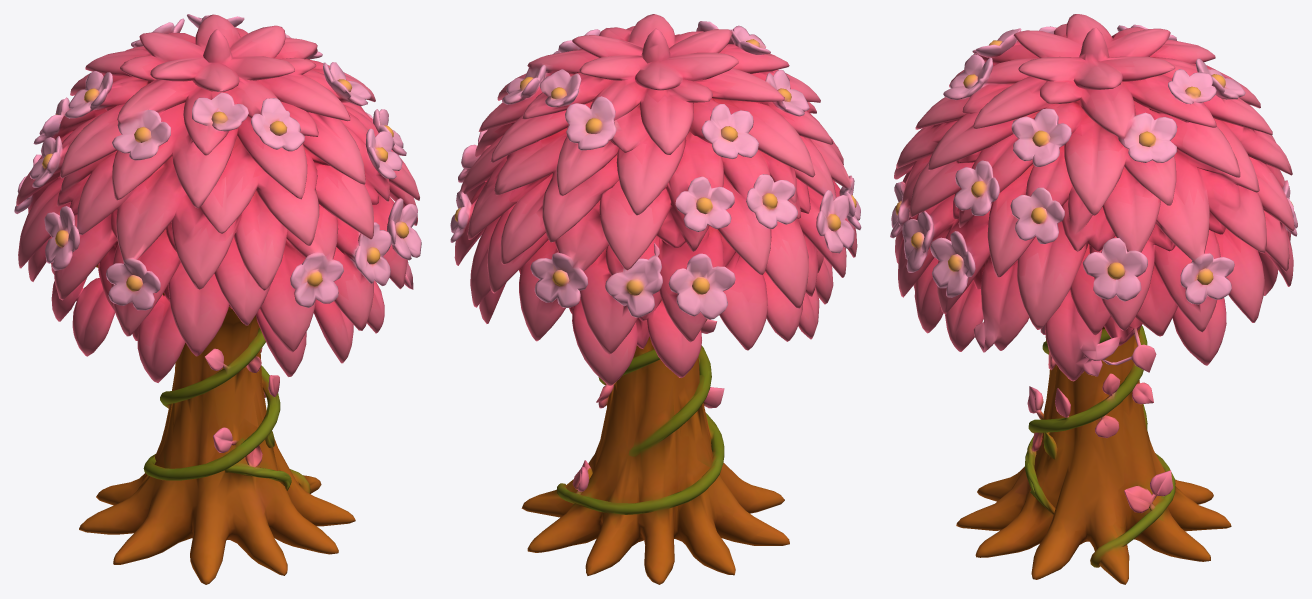
The model's file is tree_blossom.glb.
The picture shows the model from 3 angles, left to right: view 1: azimuth 30°, elevation 25°; view 2: azimuth 150°, elevation 25°; view 3: azimuth 270°, elevation 25°; orthographic projection.
Parts seen in each view (by area): view 1: tripo_node_3f29fced-2bee-4521-aa4e-dfefd505a416; view 2: tripo_node_3f29fced-2bee-4521-aa4e-dfefd505a416; view 3: tripo_node_3f29fced-2bee-4521-aa4e-dfefd505a416.
Boxes of the visible parts, x1=… form: tripo_node_3f29fced-2bee-4521-aa4e-dfefd505a416: x1=14, y1=14, x2=421, y2=584; tripo_node_3f29fced-2bee-4521-aa4e-dfefd505a416: x1=450, y1=14, x2=861, y2=584; tripo_node_3f29fced-2bee-4521-aa4e-dfefd505a416: x1=890, y1=14, x2=1297, y2=584.
Bounding box in the file's own units: 3.37 × 4.5 × 3.31.
1 material, 1 textured.
